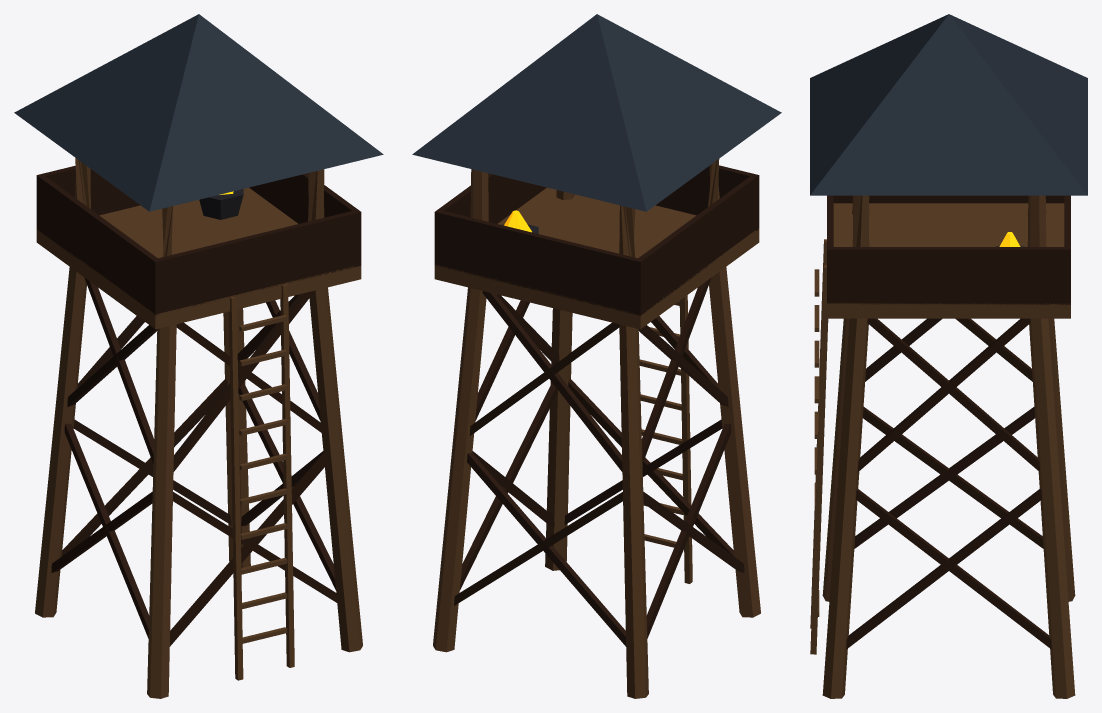
The model's file is torre_vigia.fbx.
The picture shows the model from 3 angles, left to right: view 1: azimuth 30°, elevation 25°; view 2: azimuth 150°, elevation 25°; view 3: azimuth 270°, elevation 25°; orthographic projection. The views are drawn at different scales.
Visible parts, largest first — view 1: torre_vigia; view 2: torre_vigia; view 3: torre_vigia.
Boxes of the visible parts, x1,y1,x2,y2 form: torre_vigia: [14, 14, 383, 698]; torre_vigia: [412, 14, 781, 698]; torre_vigia: [810, 14, 1087, 698].
Bounding box in the file's own units: 4.1 × 10.31 × 4.1.
